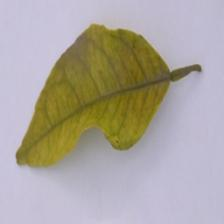greening: (33, 70, 180, 146)
